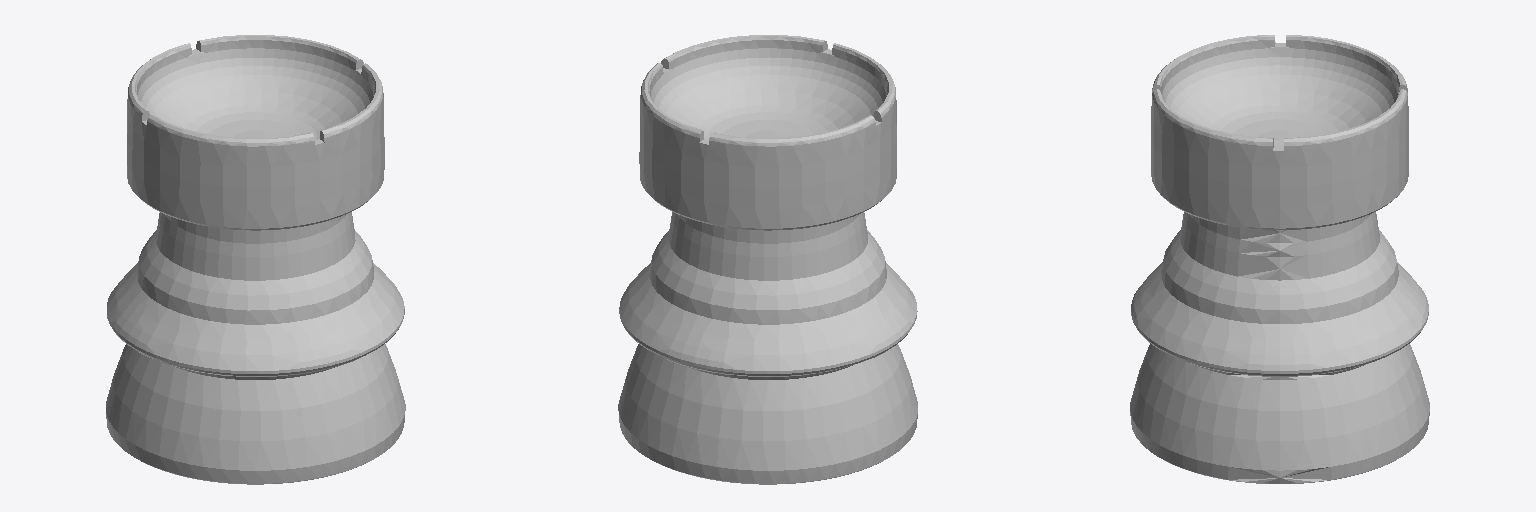
File: blackRook.obj
3 renders of one model, left to right at view 1: azimuth 30°, elevation 25°; view 2: azimuth 150°, elevation 25°; view 3: azimuth 270°, elevation 25°, orthographic.
Parts seen in each view (by area): view 1: Obj_000085; view 2: Obj_000085; view 3: Obj_000085.
Boxes of the visible parts, x1,y1,x2,y2 form: Obj_000085: [106, 35, 405, 484]; Obj_000085: [618, 35, 917, 484]; Obj_000085: [1130, 35, 1429, 483].
Bounding box in the file's own units: 3.78 × 4.68 × 3.76.